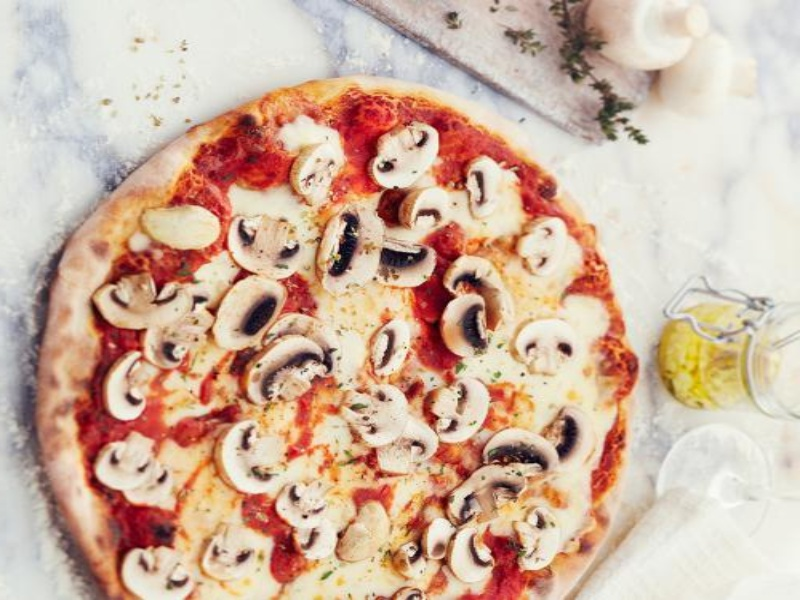champignon: (315, 203, 393, 303), (87, 272, 200, 339), (244, 328, 327, 412), (220, 210, 309, 283), (209, 270, 283, 354), (440, 461, 526, 531), (87, 420, 164, 496), (210, 417, 285, 494), (333, 381, 410, 453), (363, 120, 441, 190), (114, 543, 203, 600), (429, 294, 501, 362), (483, 428, 562, 489), (267, 470, 343, 532), (507, 319, 581, 382), (98, 347, 159, 423), (438, 522, 509, 584), (422, 377, 490, 441), (193, 533, 269, 587), (550, 395, 597, 482), (458, 154, 509, 227), (366, 318, 416, 380)
